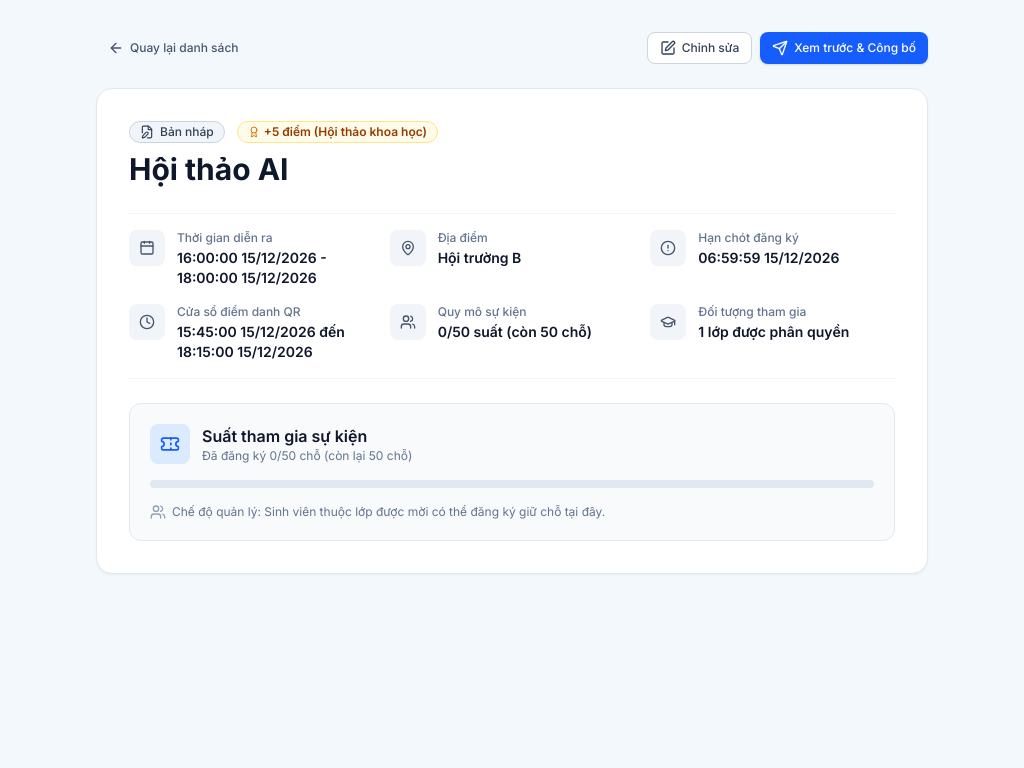
it: EventDetailPage publish flow [QE-65] › shows "Bạn cần xem trước sự kiện trước khi công bố." when publish is rejected with PREVIEW_REQUIRED
This screenshot has width=1024, height=768.
Click the button "Xem trước & Công bố": click(844, 48) x1=760 y1=32 x2=928 y2=64
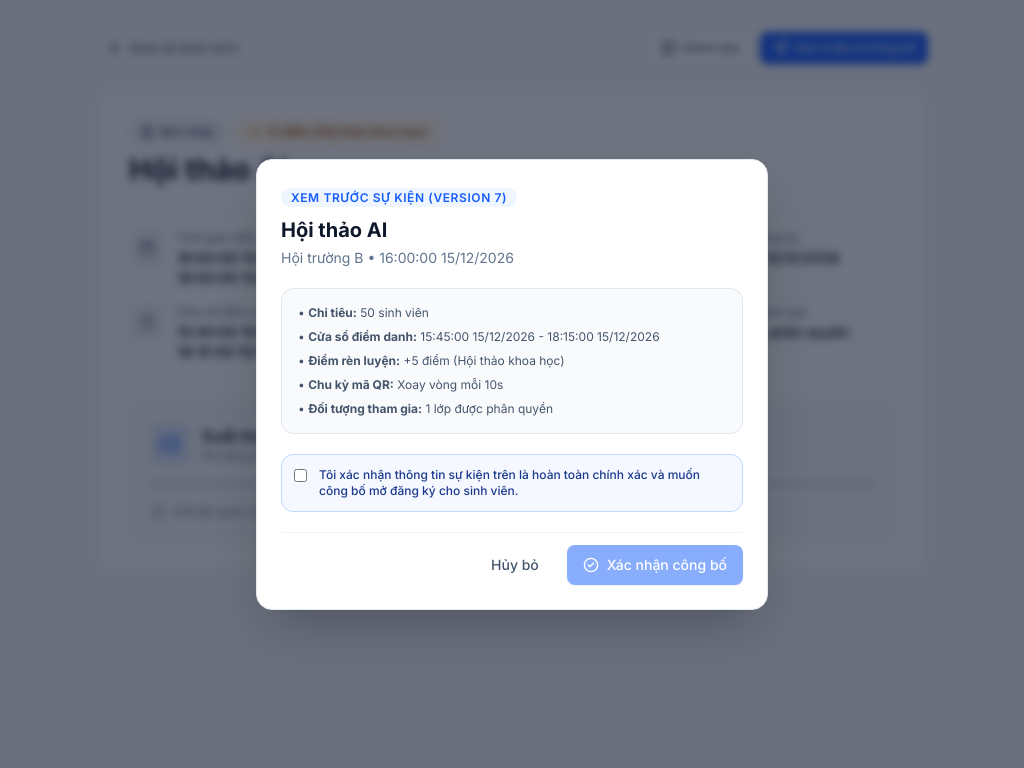
Click the checkbox: click(300, 475) x1=294 y1=468 x2=307 y2=482
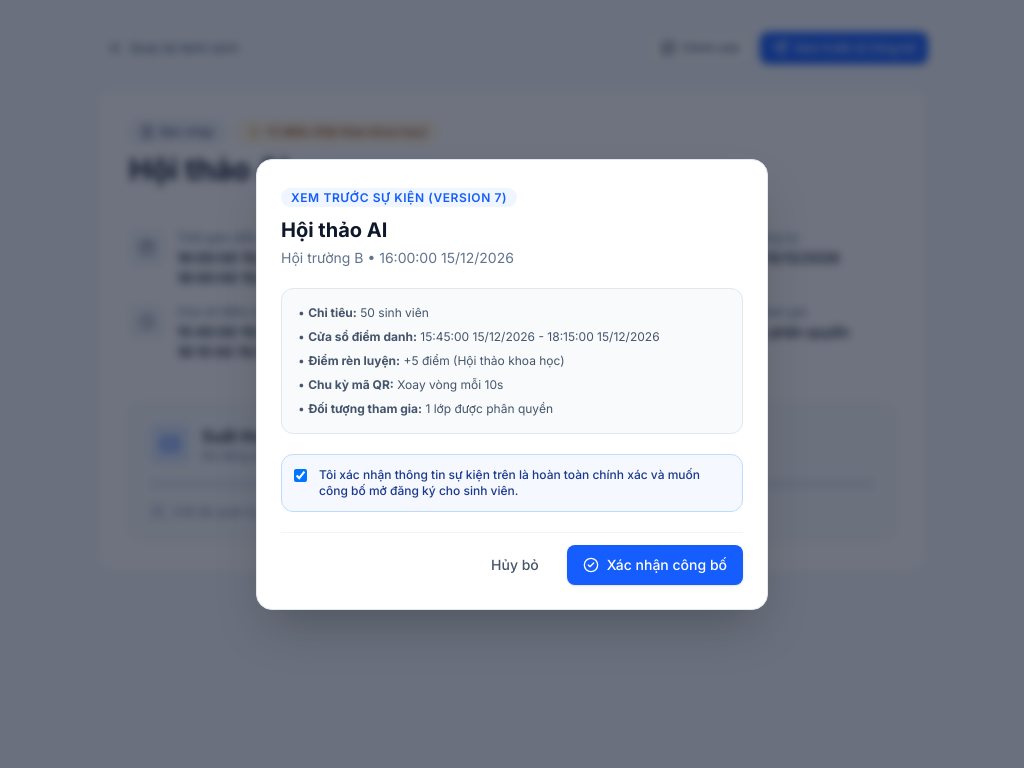
Click the button "Xác nhận công bố": click(655, 564) x1=567 y1=544 x2=743 y2=584
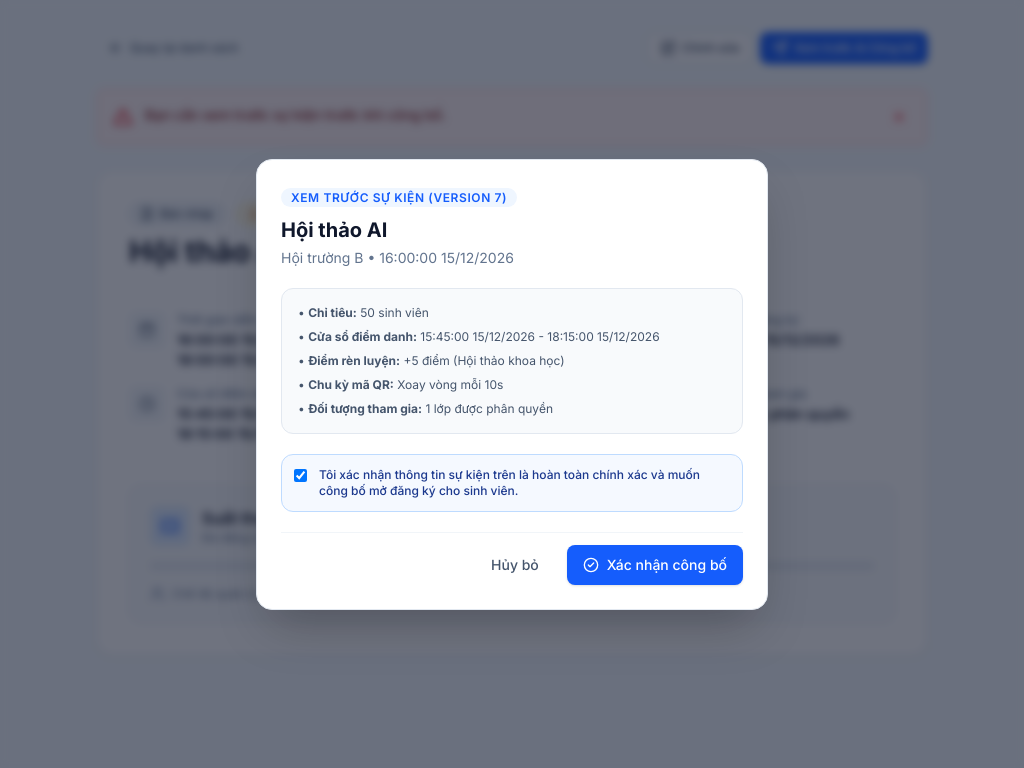
Expected: the message reads "Bạn cần xem trước sự kiện trước khi công bố.", x1=145 y1=106 x2=446 y2=123
